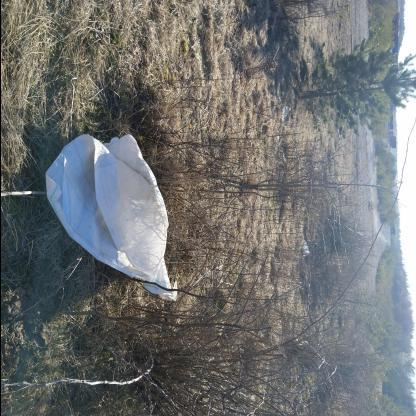diger: (45, 134, 180, 303)
